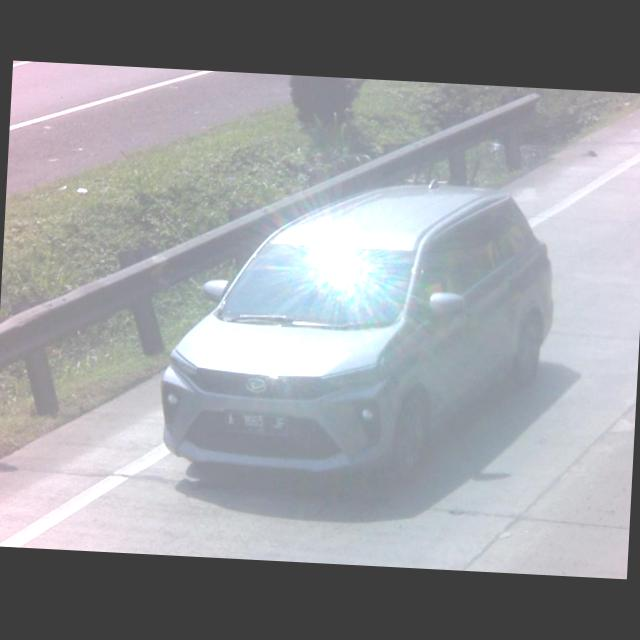plate: (224, 409, 289, 437)
